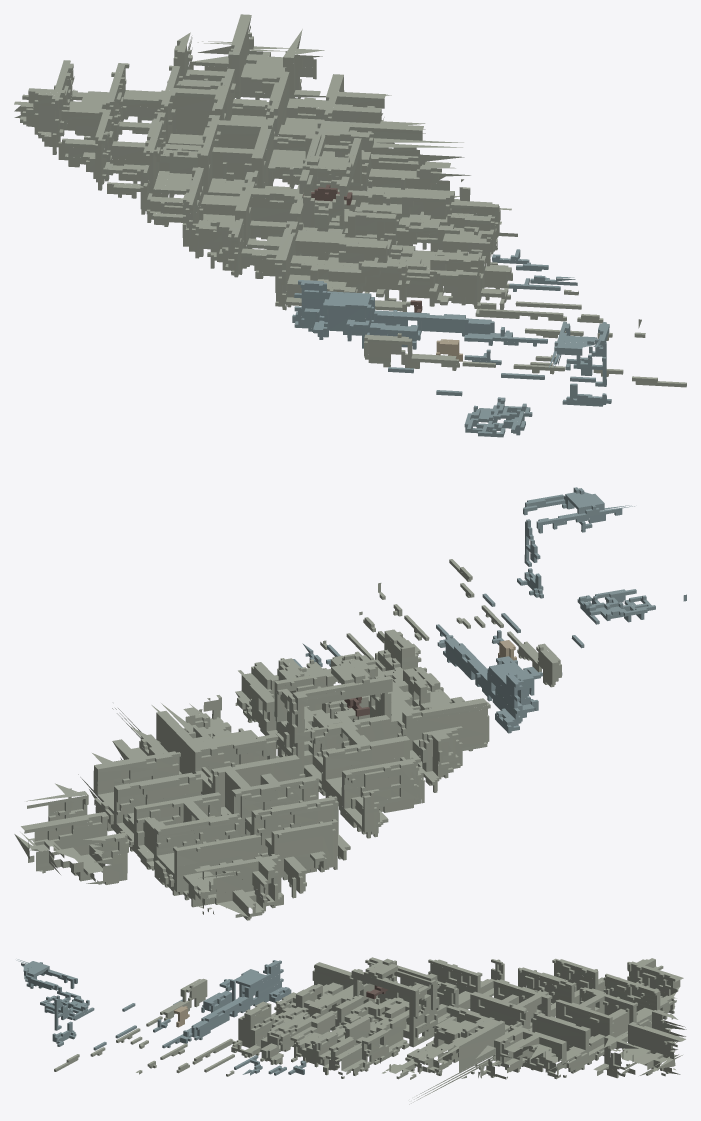
The picture shows the model from 3 angles, top to bottom: view 1: azimuth 30°, elevation 25°; view 2: azimuth 150°, elevation 25°; view 3: azimuth 270°, elevation 25°; orthographic projection. The views are drawn at different scales.
Parts seen in each view (by area): view 1: measured-industrial; view 2: measured-industrial; view 3: measured-industrial.
Boxes of the visible parts, x1=… form: measured-industrial: x1=14, y1=14, x2=686, y2=437; measured-industrial: x1=14, y1=487, x2=686, y2=920; measured-industrial: x1=16, y1=957, x2=686, y2=1104.
Size of the model in its own units: 109 by 28.35 by 259.
